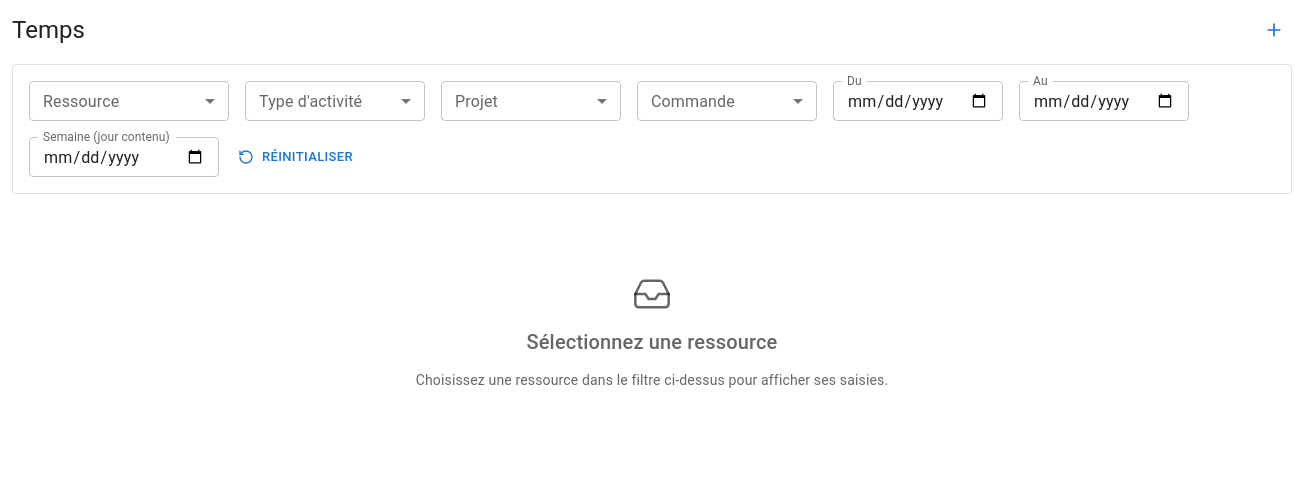
Test: TimeEntriesPage › hides the recalculate action when the current identity lacks TIME_ENTRY_RECALCULATION
Step 1. Click the 1st dropdown named "Ressource" → (129, 101), box [29,81,229,121]
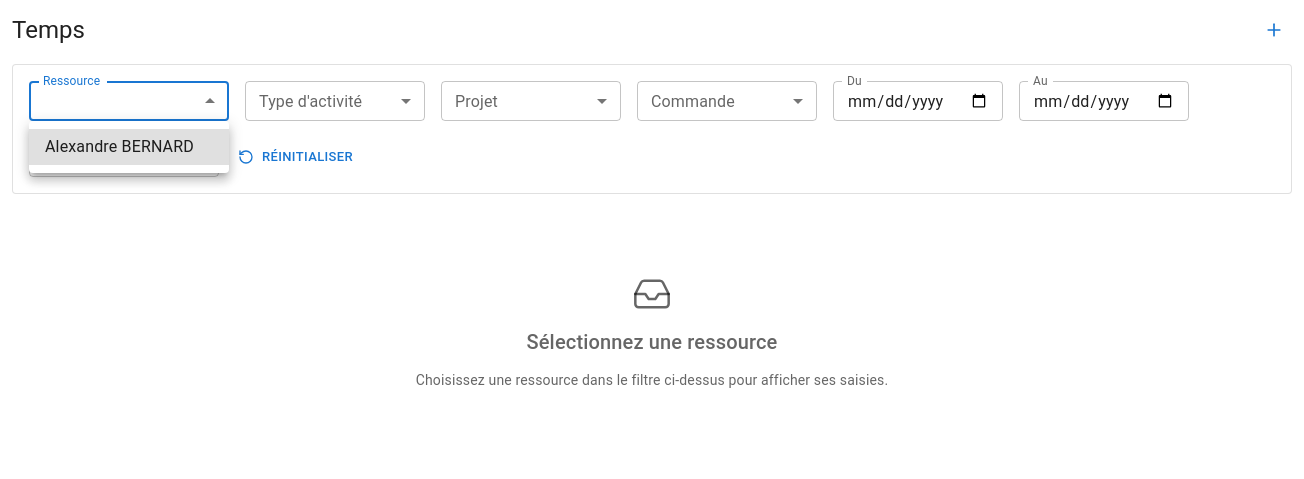
Step 2. Click the option "Alexandre BERNARD" → (129, 147), box [29,129,229,165]
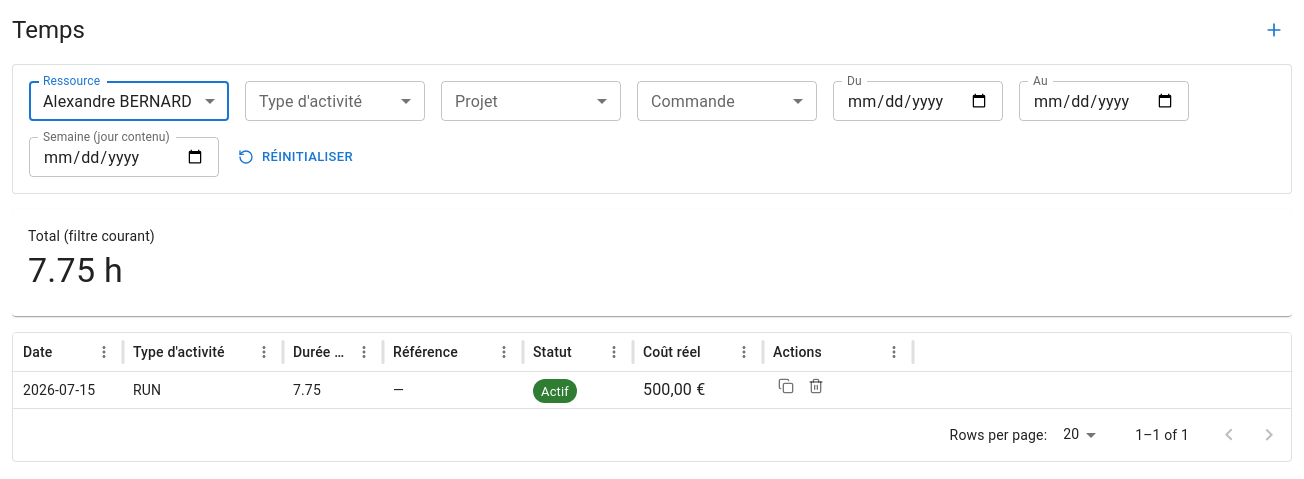
Expected: the text "2026-07-15" is shown, [23,382,95,398]
Expected: the button named "Dupliquer" is shown, [773,373,799,399]
